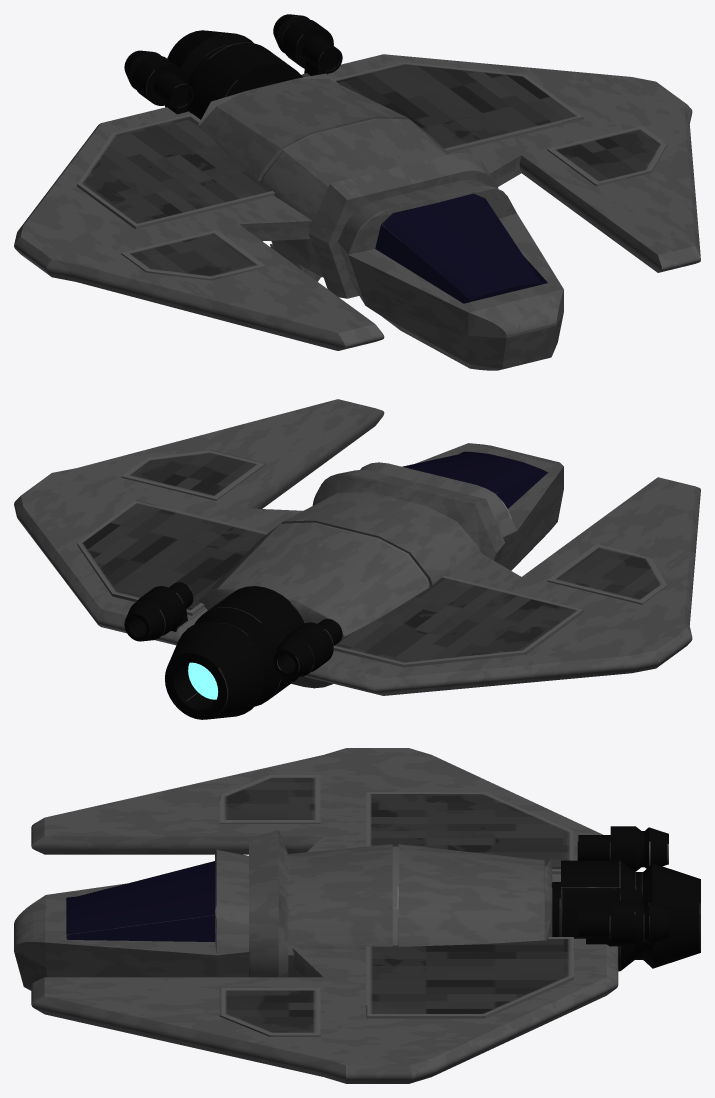
Rendered from spacejet.glb.
3 renders of one model, top to bottom at view 1: azimuth 30°, elevation 25°; view 2: azimuth 150°, elevation 25°; view 3: azimuth 270°, elevation 25°, orthographic. The views are drawn at different scales.
Visible parts, largest first — view 1: Space-Jet; view 2: Space-Jet; view 3: Space-Jet.
Boxes of the visible parts, x1,y1,x2,y2 form: Space-Jet: (14,14,700,370); Space-Jet: (14,399,700,719); Space-Jet: (14,748,700,1083).
Size of the model in its own units: 3.57 by 0.6977 by 3.21.
Materials: 7 (6 with a texture image).
